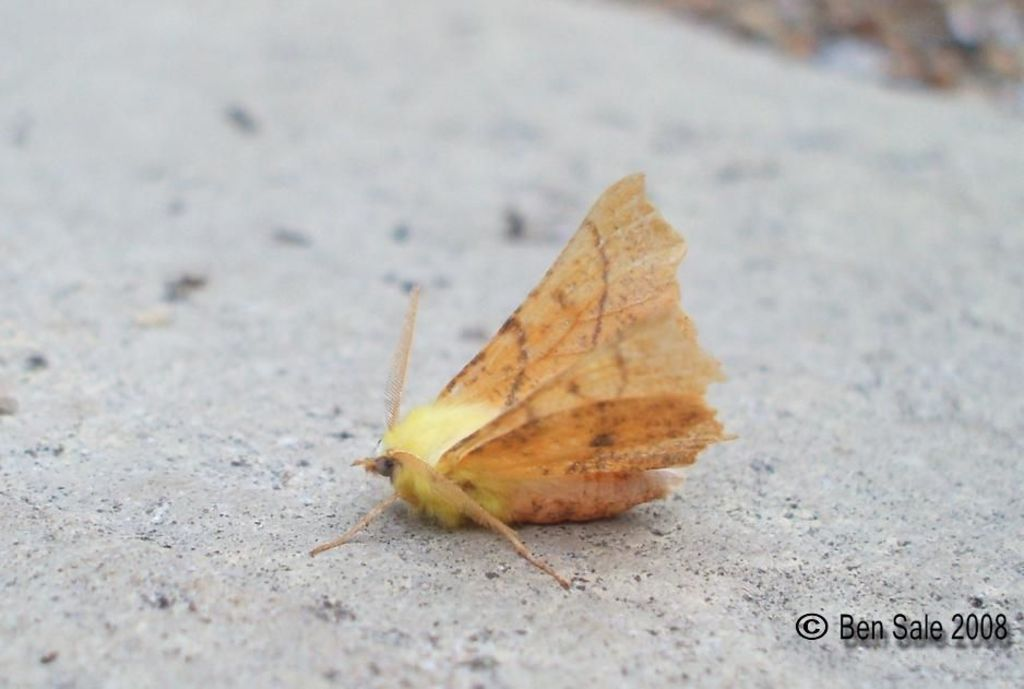Butterfly: (298, 176, 743, 585)
